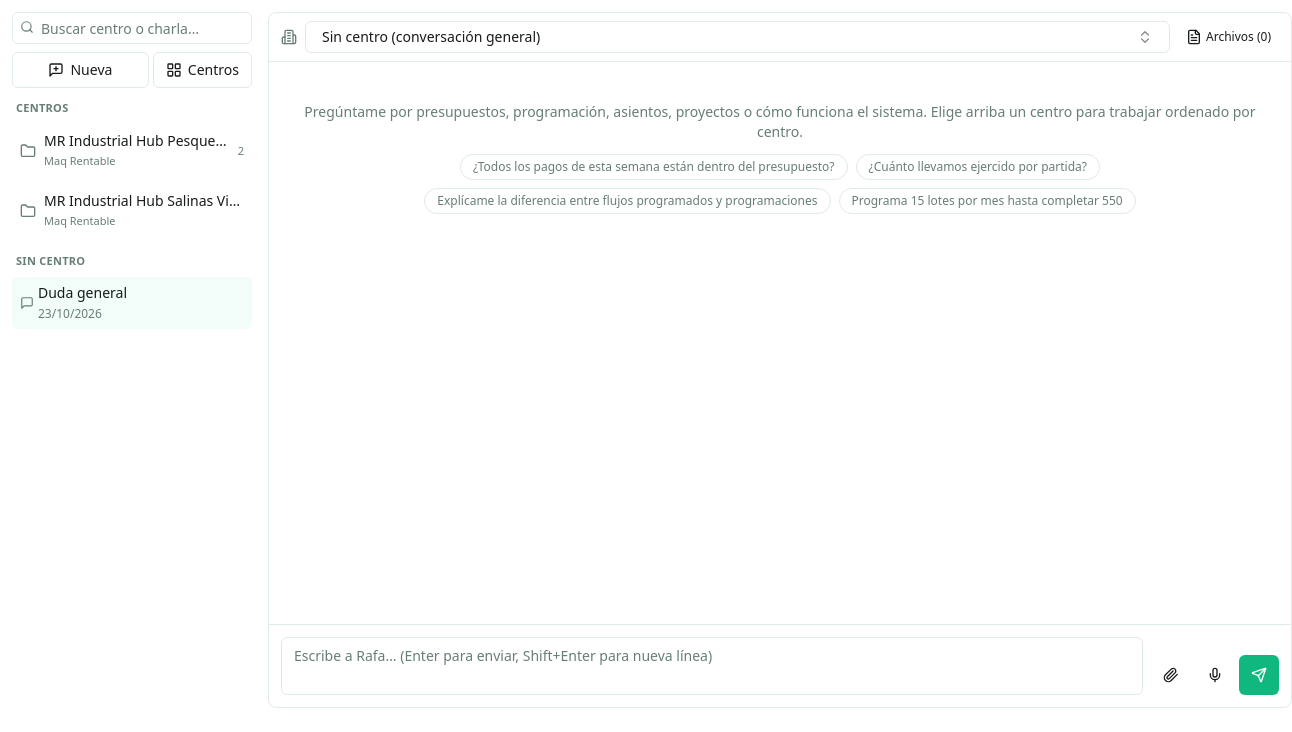
Test case: centros como proyectos (tipo ChatGPT) › el buscador filtra centros sin importar acentos ni mayúsculas
Expected: the button titled "CN025 · MR Industrial Hub Salinas Victoria" is shown, [12, 184, 252, 236]
Type "salinas" into the field labelled "Buscar centro o charla". click: [132, 28]
box: [12, 12, 252, 44]
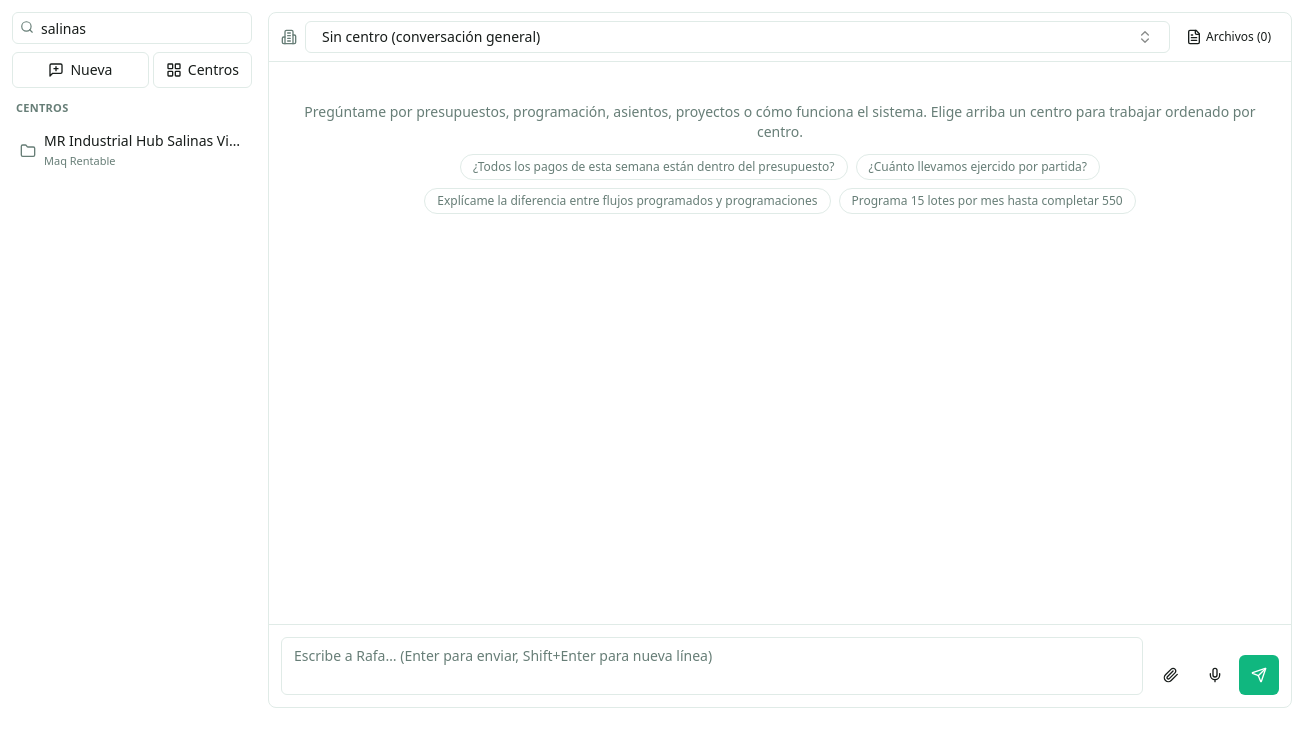
Expected: the button titled "CN025 · MR Industrial Hub Salinas Victoria" is shown, [12, 124, 252, 176]
Note: Buscar por título de charla muestra su centro y la charla.
Replace the text in the field named "Buscar centro o charla" with "manzana". click: [132, 28]
box: [12, 12, 252, 44]
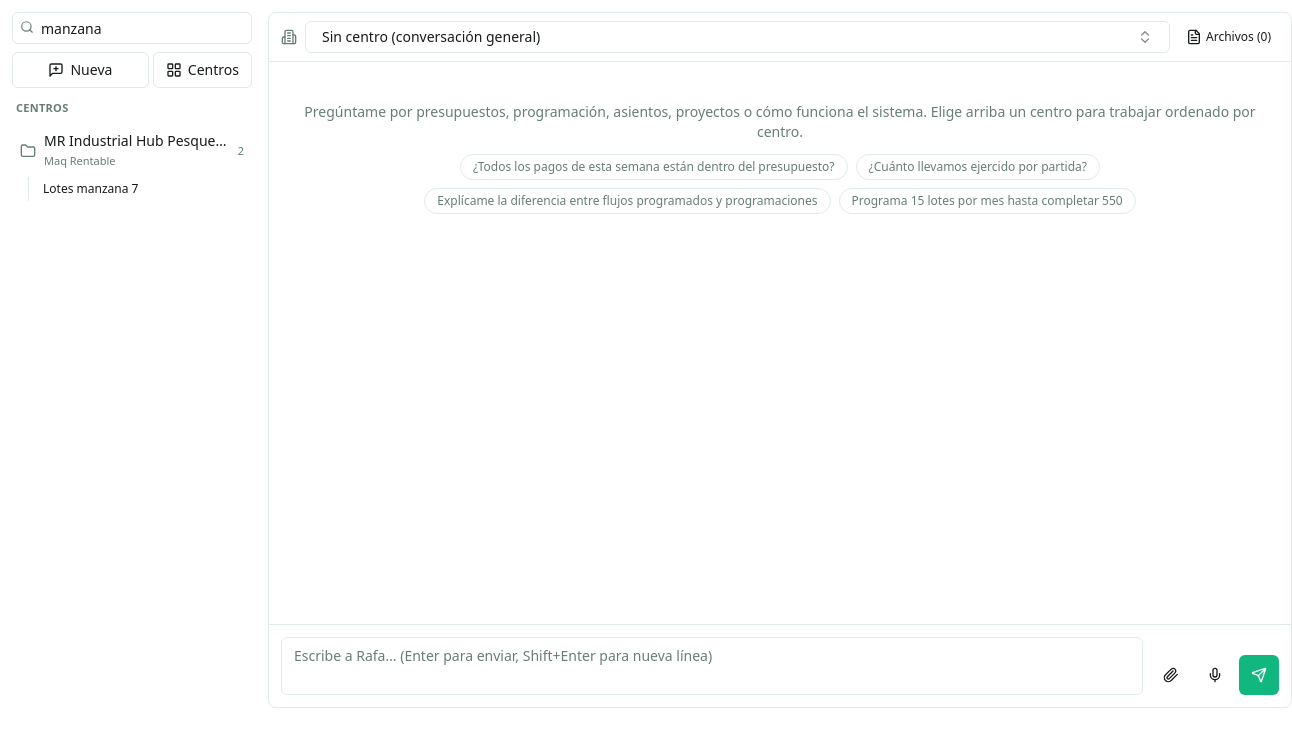
Expected: the button titled "CN021" is shown, [12, 124, 252, 176]
Expected: the button "Lotes manzana 7" is shown, [43, 180, 230, 196]
